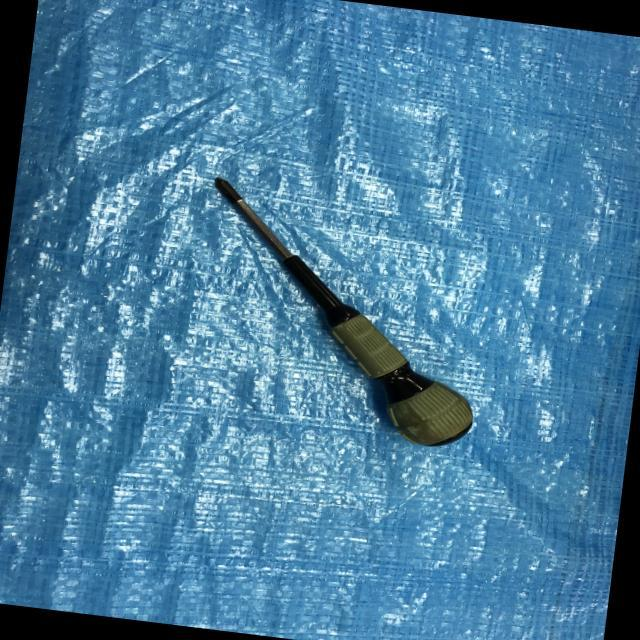screwdriver: (188, 178, 496, 450)
